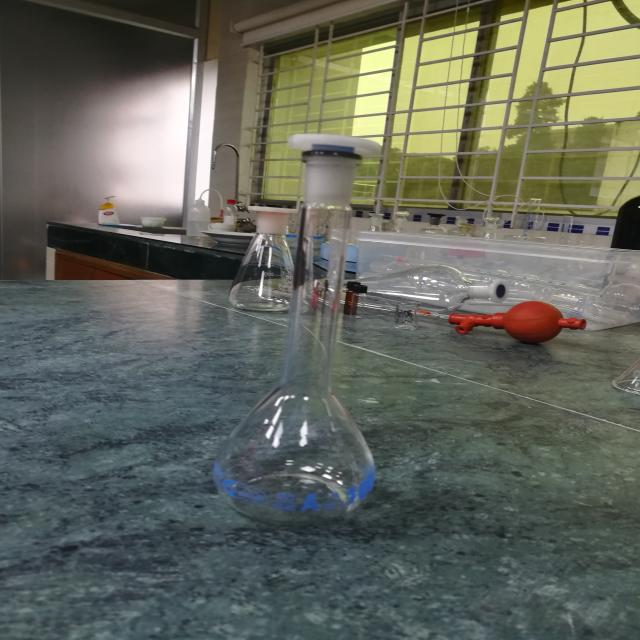Volumetric_Flask: (192, 118, 419, 552)
